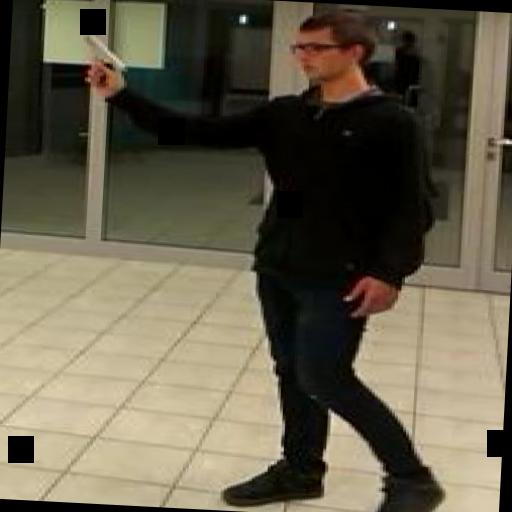Handgun: (69, 28, 133, 90)
